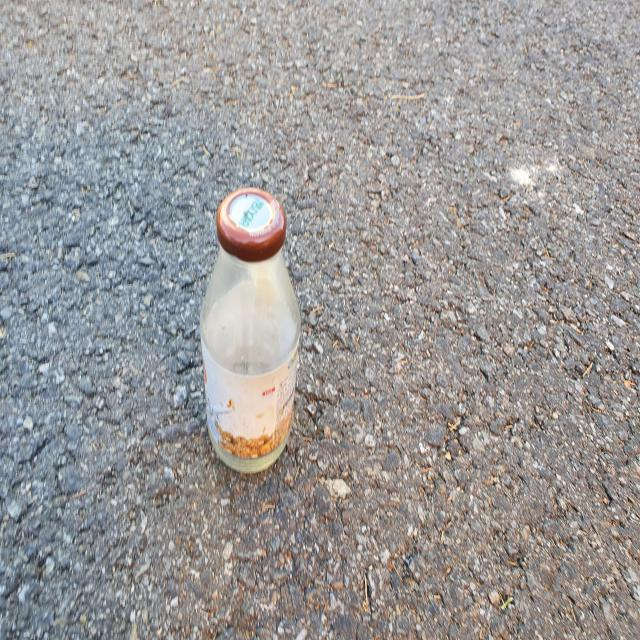glass: (200, 187, 301, 473)
